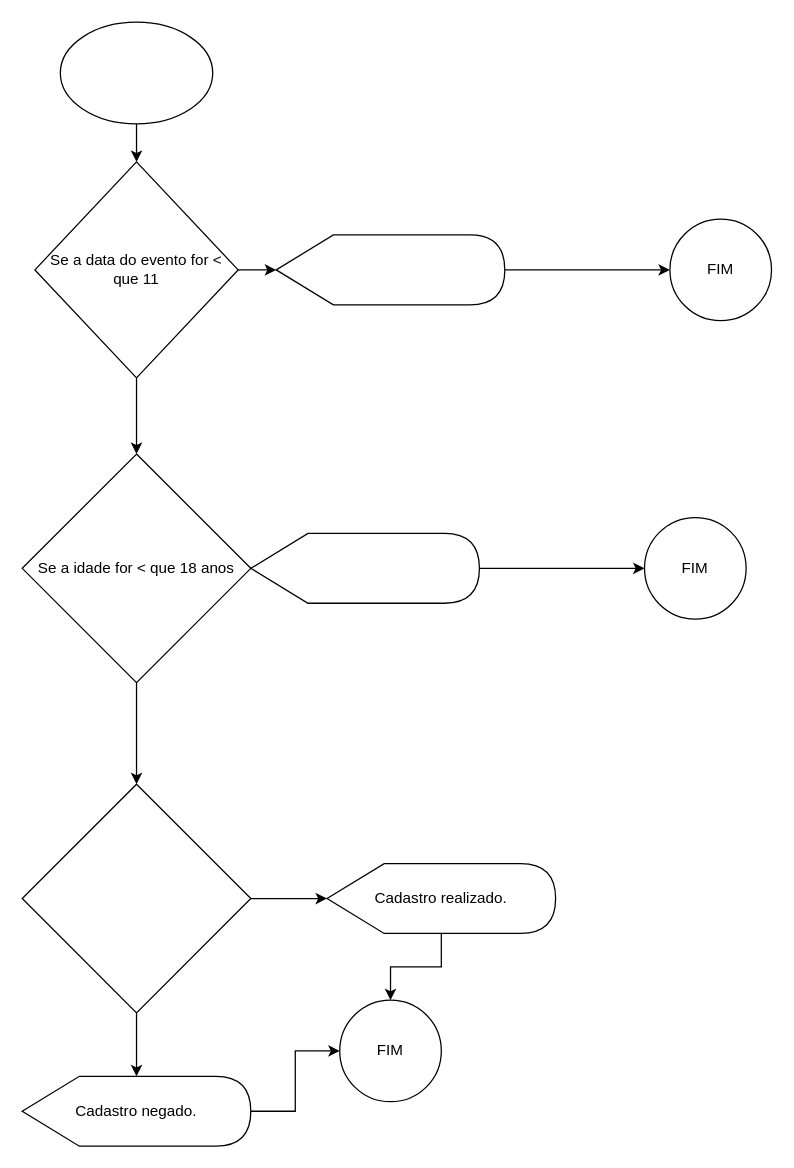
Image size: 794x1168. Some labels were removed from this diagram. The centre of each missing label's shape, as x and y in pixels:
Cadastro fora da data limite.: point 390,269
Idade não permitida: point 364,567
Início: point 136,72
Se a quantidade de participantes for ">=100": point 136,898
